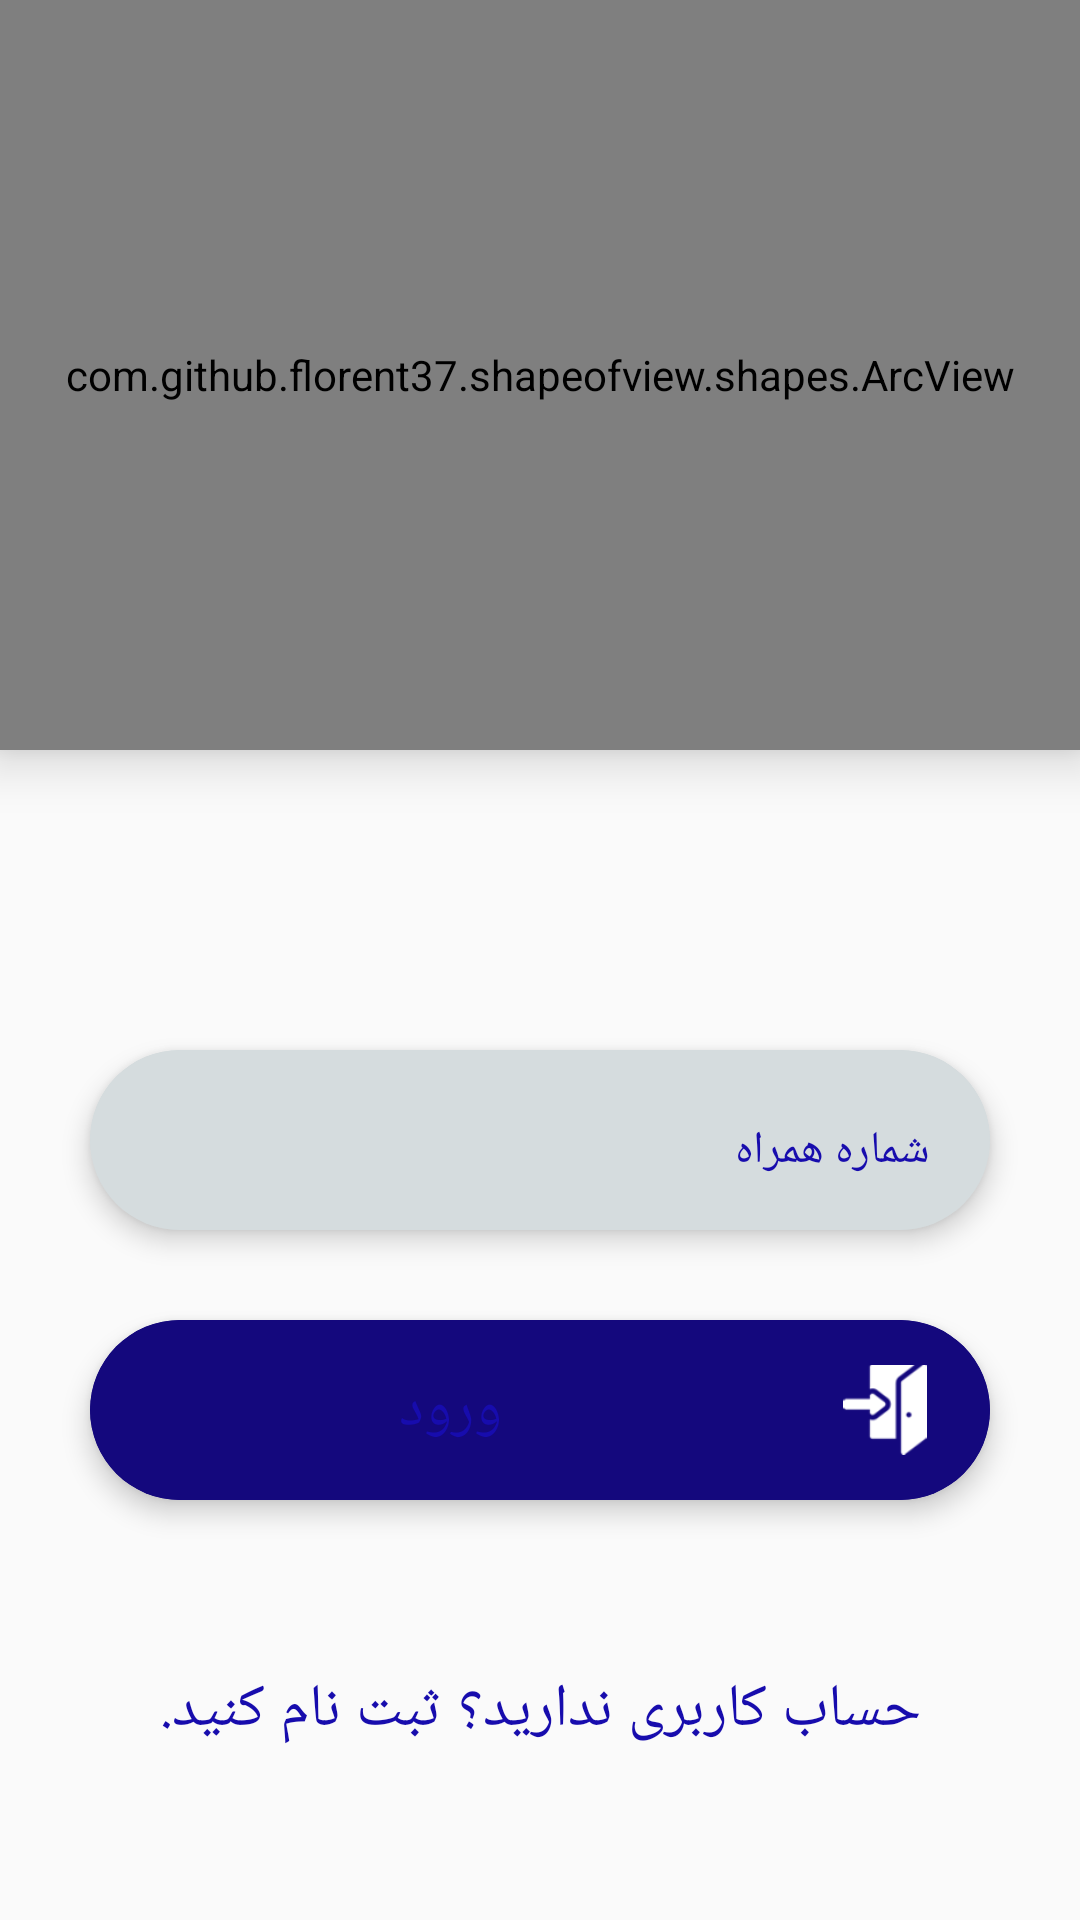

Screen size 1080×1920. Icon name, then its center in pixels as point (x, y):
login: point (885, 1410)
